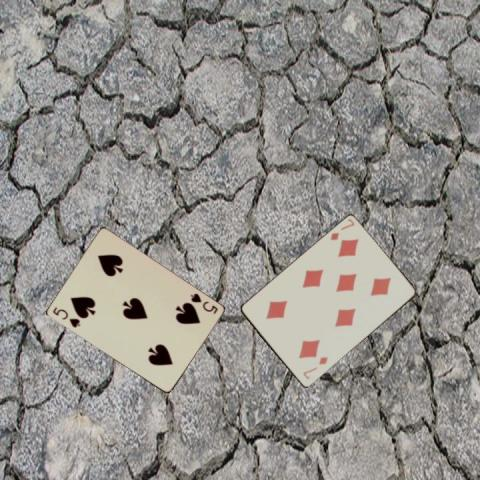5s: (49, 304, 82, 329), (187, 290, 219, 315)
7d: (300, 354, 329, 381), (327, 216, 356, 242)
